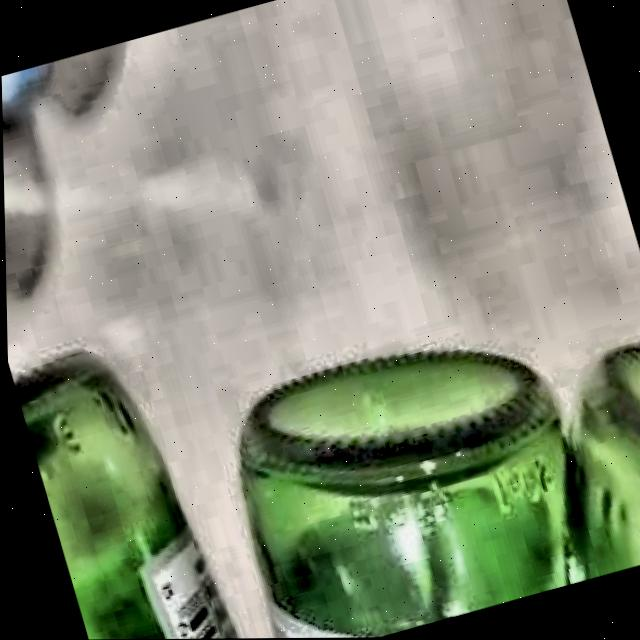glass: (238, 350, 640, 638)
